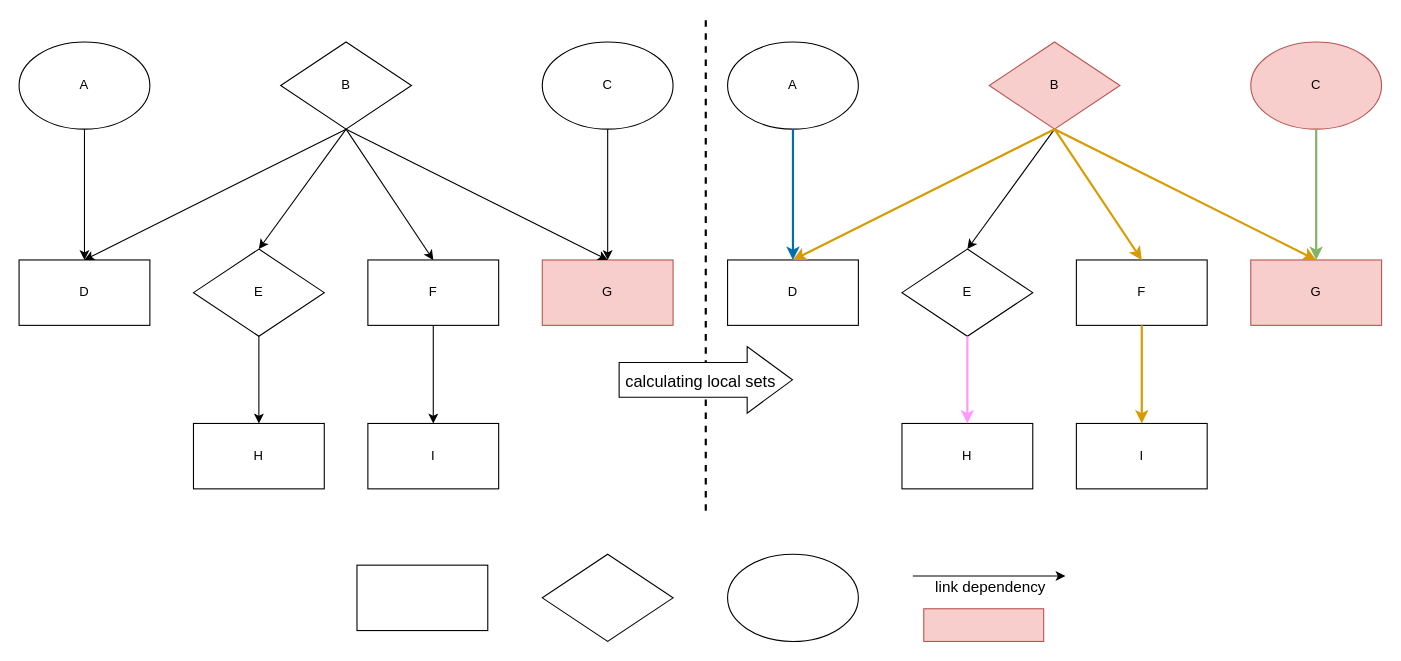
Image size: 1401x661. Some labels were removed from this diagram. The centre of each missing label's shape, as x and y in pixels:
dynamic library: the point at 607,597
executable: the point at 792,597
marked for instrumentation: the point at 983,624
static library: the point at 422,597
